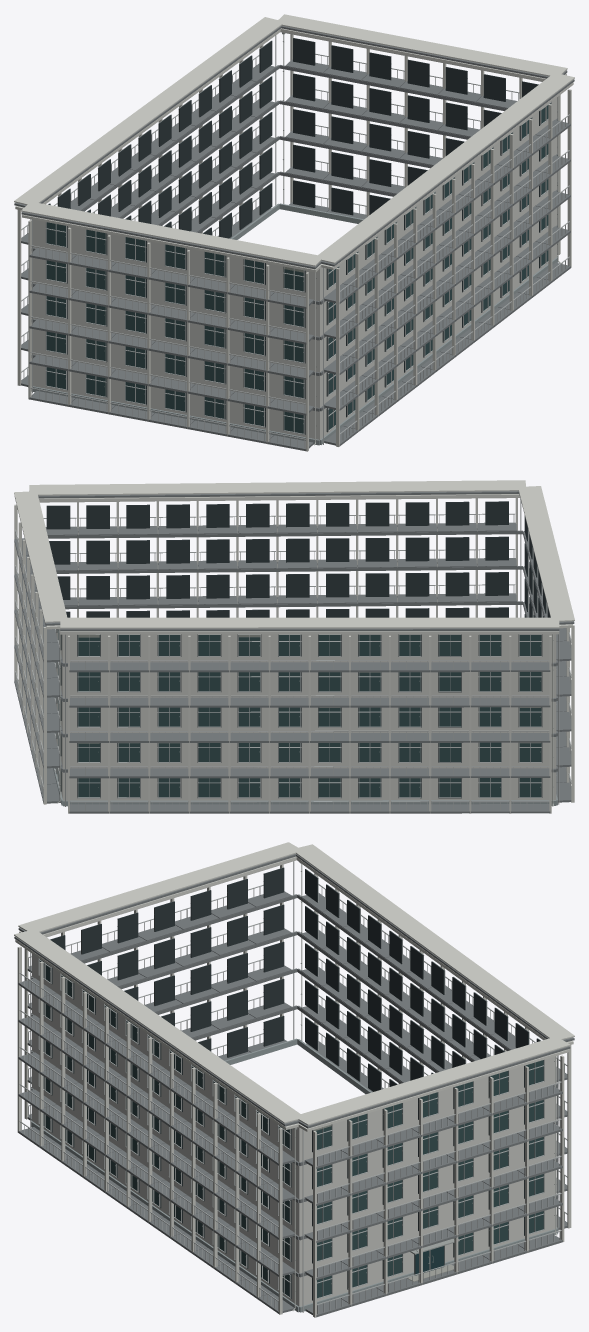
The model's file is njupt_k_dormitory_03.glb.
3 views of the same model, one above another, from view 1: azimuth 30°, elevation 25°; view 2: azimuth 150°, elevation 25°; view 3: azimuth 270°, elevation 25° (orthographic). The views are drawn at different scales.
Parts seen in each view (by area): view 1: Windows and facade details | K组团宿舍（模型序号3）, Architecture | K组团宿舍（模型序号3）, Roof services | K组团宿舍（模型序号3）, EXTERIOR::njupt_k_dormitory_03::rainwater and roof service d; view 2: Windows and facade details | K组团宿舍（模型序号3）, Architecture | K组团宿舍（模型序号3）, Roof services | K组团宿舍（模型序号3）, EXTERIOR::njupt_k_dormitory_03::rainwater and roof service d; view 3: Windows and facade details | K组团宿舍（模型序号3）, Architecture | K组团宿舍（模型序号3）, Roof services | K组团宿舍（模型序号3）, EXTERIOR::njupt_k_dormitory_03::inferred entry doors canopy , EXTERIOR::njupt_k_dormitory_03::rainwater and roof service d.
Boxes of the visible parts, bbox=[...] form: Windows and facade details | K组团宿舍（模型序号3）: bbox=[21, 35, 570, 451]; Architecture | K组团宿舍（模型序号3）: bbox=[17, 31, 571, 451]; Roof services | K组团宿舍（模型序号3）: bbox=[14, 14, 574, 272]; EXTERIOR::njupt_k_dormitory_03::rainwater and roof service d: bbox=[28, 32, 560, 445]; Windows and facade details | K组团宿舍（模型序号3）: bbox=[14, 499, 571, 813]; Architecture | K组团宿舍（模型序号3）: bbox=[14, 494, 574, 813]; Roof services | K组团宿舍（模型序号3）: bbox=[14, 480, 574, 634]; EXTERIOR::njupt_k_dormitory_03::rainwater and roof service d: bbox=[57, 629, 553, 806]; Windows and facade details | K组团宿舍（模型序号3）: bbox=[18, 861, 567, 1317]; Architecture | K组团宿舍（模型序号3）: bbox=[17, 859, 571, 1317]; Roof services | K组团宿舍（模型序号3）: bbox=[14, 842, 574, 1131]; EXTERIOR::njupt_k_dormitory_03::inferred entry doors canopy : bbox=[407, 1238, 459, 1281]; EXTERIOR::njupt_k_dormitory_03::rainwater and roof service d: bbox=[292, 862, 557, 1310].
Bounding box in the file's own units: 59.16 × 19.06 × 49.65.
